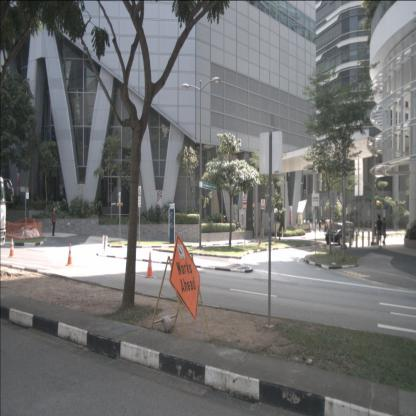human-pedestrian-adult: (376, 214, 382, 248), (51, 207, 57, 236), (372, 220, 378, 247), (382, 218, 387, 246), (324, 218, 328, 235), (326, 218, 330, 235), (314, 218, 318, 232), (306, 218, 310, 231), (303, 218, 306, 231), (319, 218, 321, 232)
movable_object-trafficcone: (144, 252, 154, 279), (65, 243, 74, 267), (8, 238, 16, 258)
vehicle-car: (326, 221, 354, 245), (43, 184, 65, 204)
vehicle-motorcycle: (232, 220, 240, 232)
